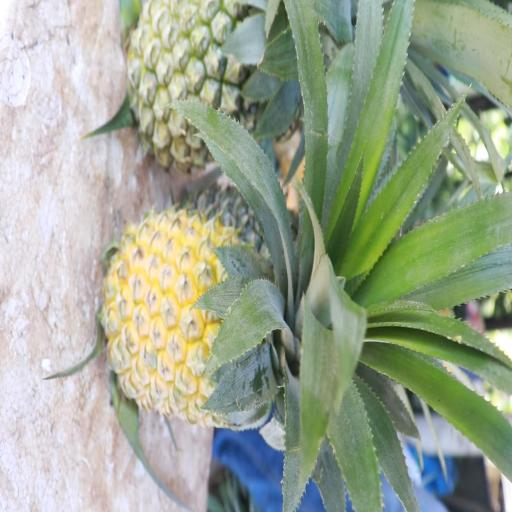------------------------------: (129, 0, 337, 158)
Pineapple - v8 v1: (108, 204, 332, 422)
